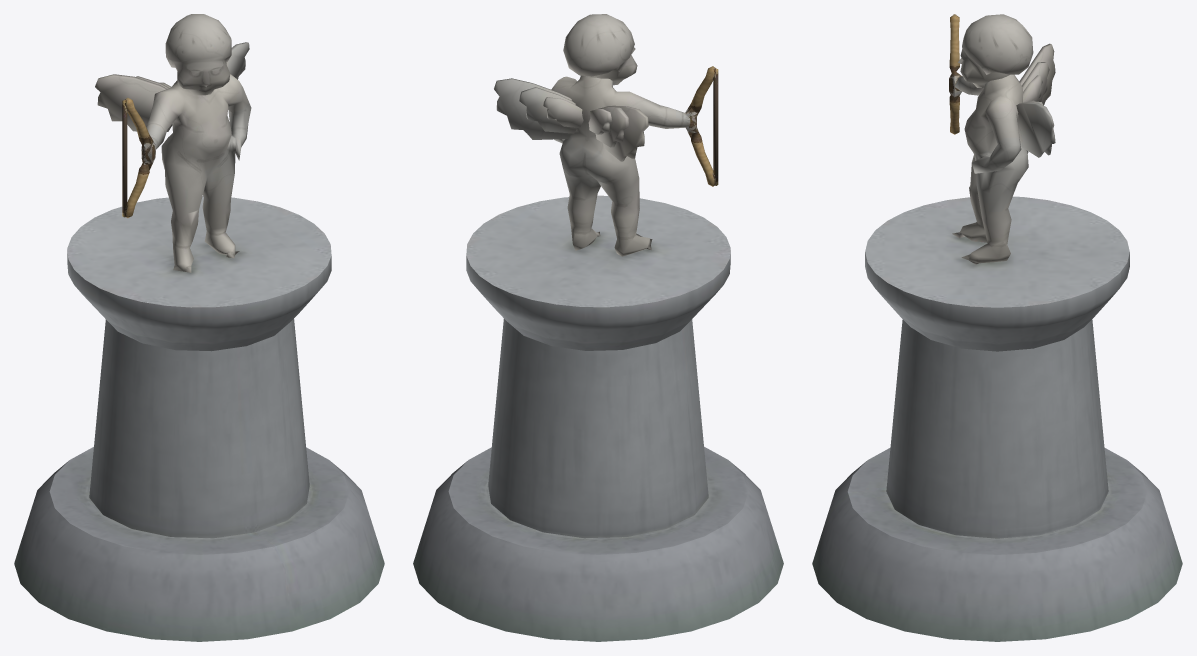
File: cupid-authored-body.glb
The picture shows the model from 3 angles, left to right: view 1: azimuth 30°, elevation 25°; view 2: azimuth 150°, elevation 25°; view 3: azimuth 270°, elevation 25°; orthographic projection.
Visible parts, largest first — view 1: Cupid-authored-bodyPedestal, Cupid-authored-bodyBody; view 2: Cupid-authored-bodyPedestal, Cupid-authored-bodyBody; view 3: Cupid-authored-bodyPedestal, Cupid-authored-bodyBody.
Boxes of the visible parts, x1,y1,x2,y2 form: Cupid-authored-bodyPedestal: [14, 196, 384, 641]; Cupid-authored-bodyBody: [95, 14, 251, 272]; Cupid-authored-bodyPedestal: [413, 195, 783, 641]; Cupid-authored-bodyBody: [494, 14, 718, 256]; Cupid-authored-bodyPedestal: [812, 196, 1182, 641]; Cupid-authored-bodyBody: [949, 14, 1055, 264].
Bounding box in the file's own units: 1.4 × 2.28 × 1.4.
1 material, 1 textured.
